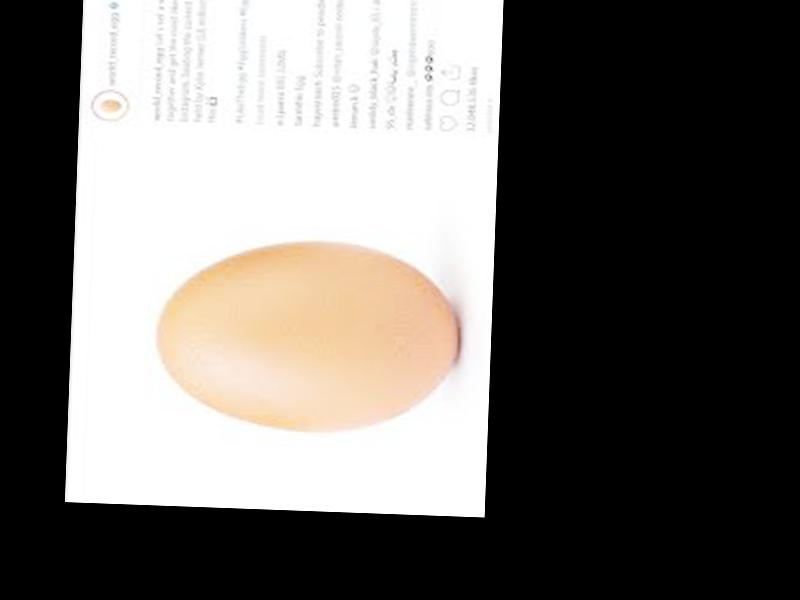Eggs: (153, 236, 459, 439)
